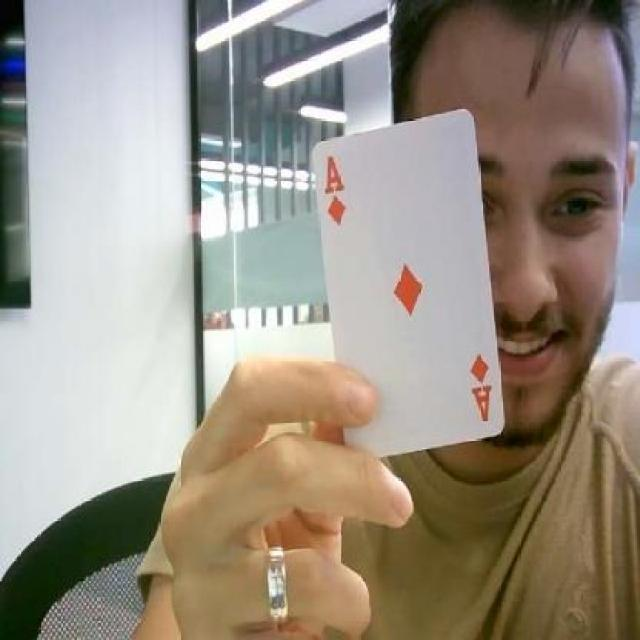AD: (467, 350, 491, 428), (323, 150, 348, 224)
